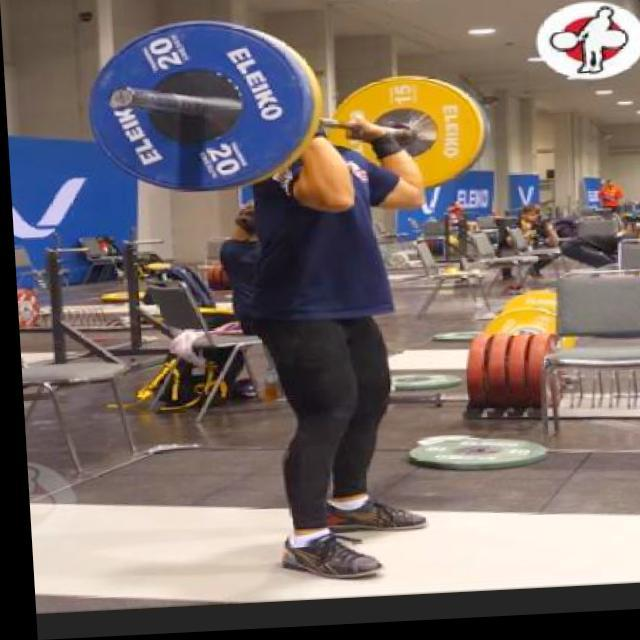barbell: (76, 15, 316, 202)
